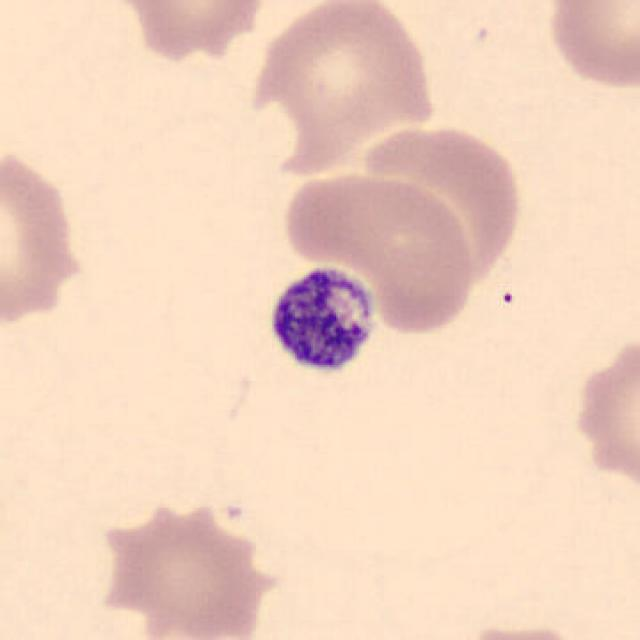Platelets: (256, 257, 382, 388)
RBC: (279, 165, 482, 338), (247, 0, 439, 153), (359, 120, 526, 289), (85, 496, 281, 638), (0, 138, 91, 335), (567, 322, 640, 508), (96, 0, 270, 62), (540, 0, 639, 93), (447, 619, 598, 640)
